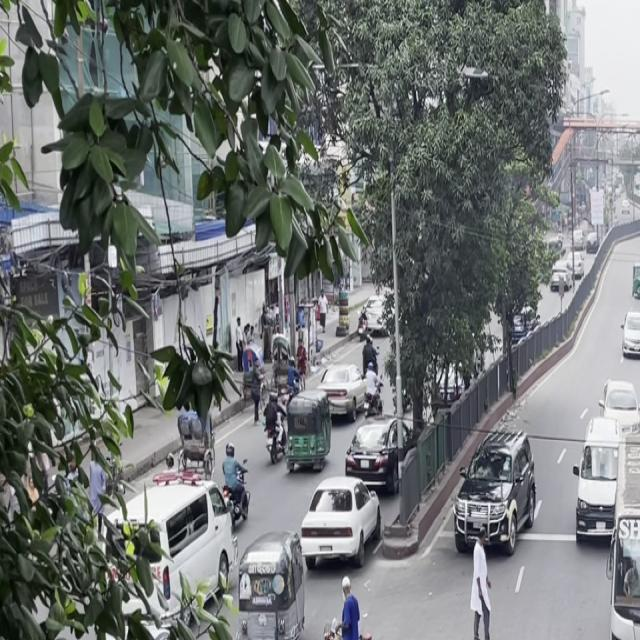bicycle: (308, 586, 394, 640)
bus: (606, 434, 640, 640)
car: (448, 418, 540, 568), (294, 464, 384, 576), (225, 527, 310, 640), (570, 407, 624, 549), (342, 407, 408, 502), (619, 307, 640, 365), (424, 633, 558, 640)
